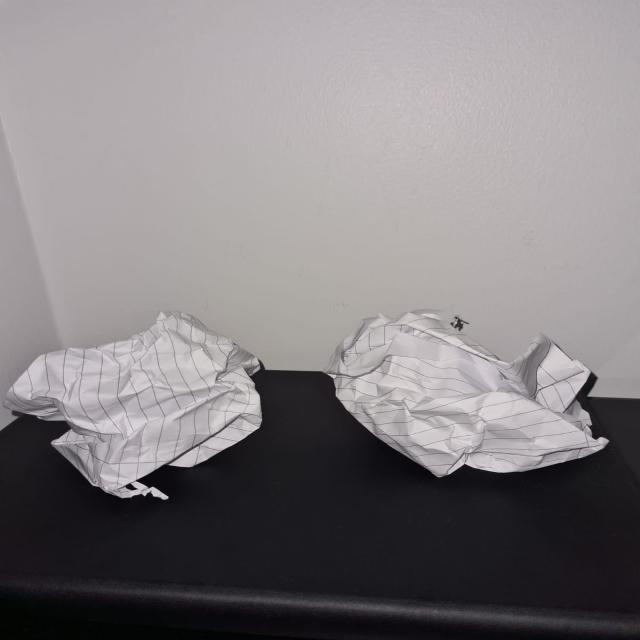trash: (315, 292, 627, 488), (22, 299, 268, 495)
